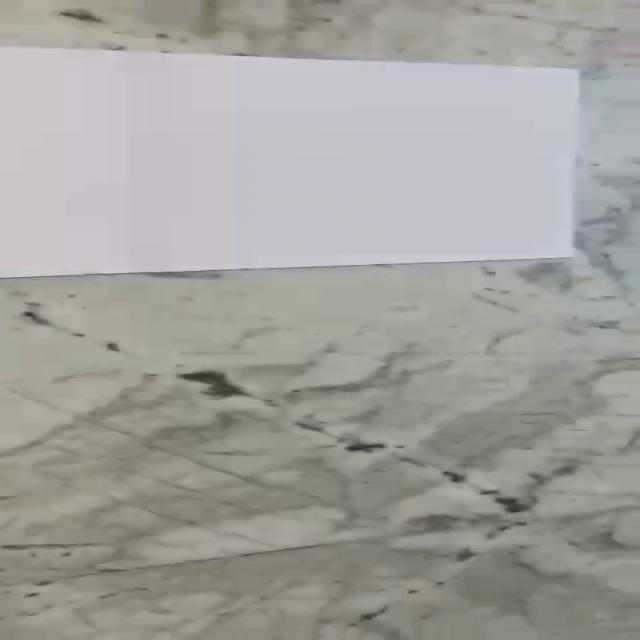road: (0, 45, 581, 278)
